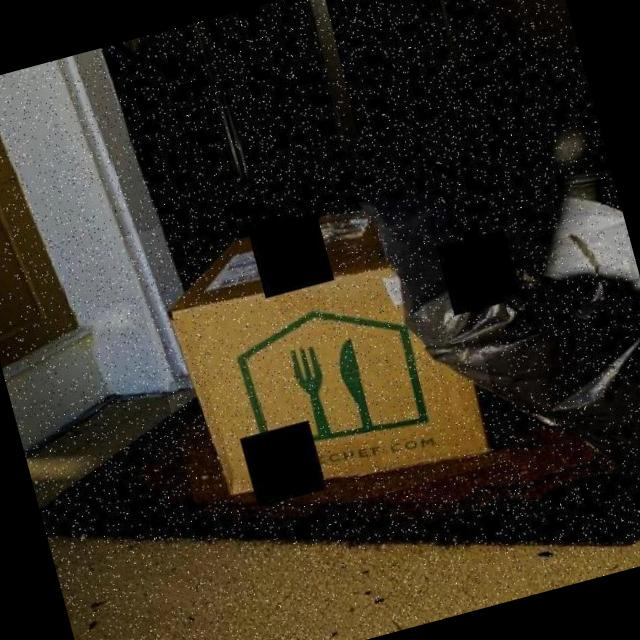box: (123, 154, 511, 541)
